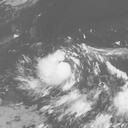cyclone: (34, 49, 75, 88)
